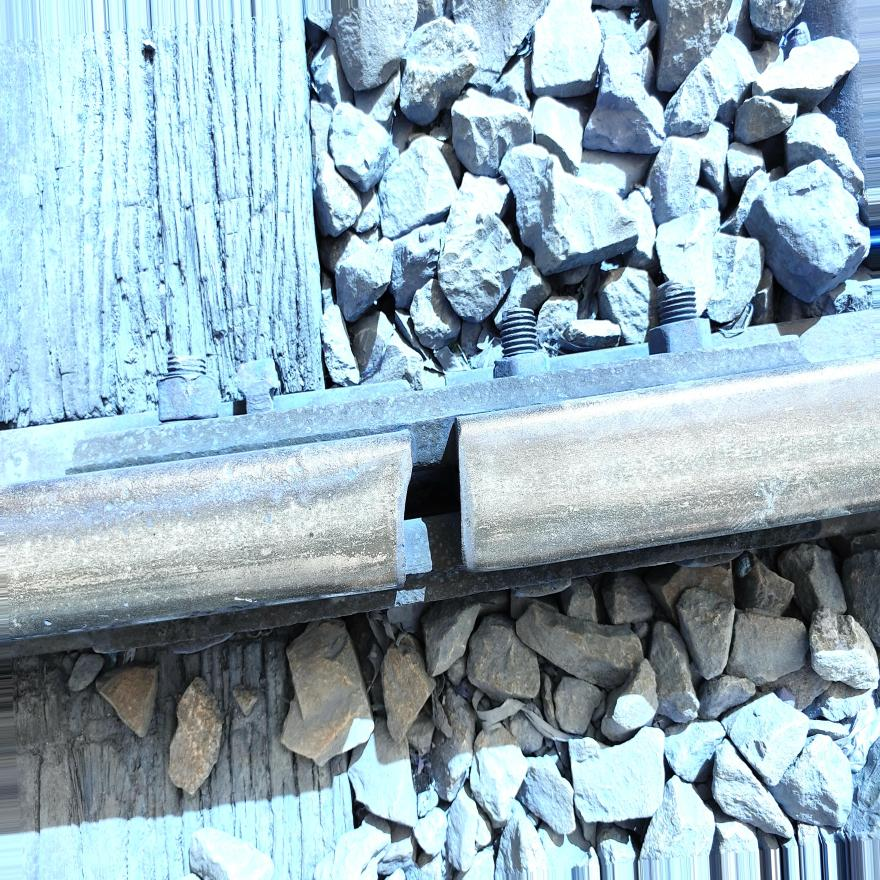railway-gap: (332, 380, 533, 629)
